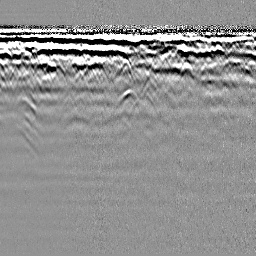cavity: (114, 88, 141, 110)
